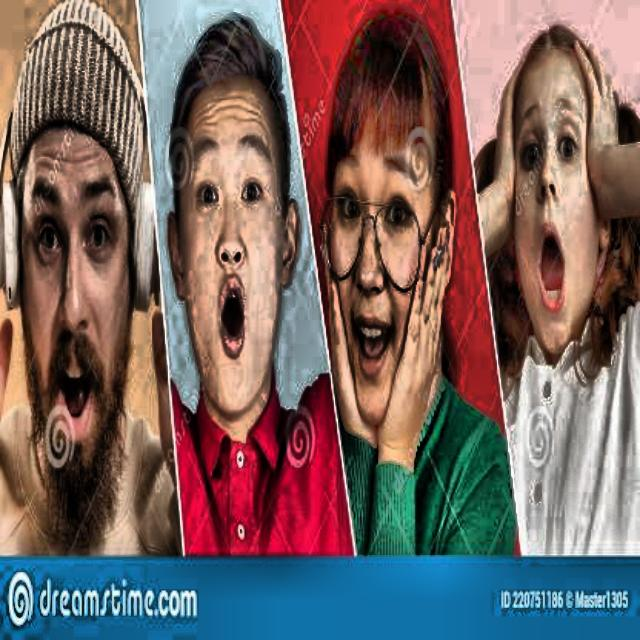surprised: (1, 27, 148, 542), (149, 12, 289, 459), (311, 24, 455, 427), (494, 22, 635, 372)
